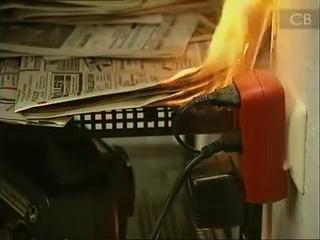Fire: (130, 1, 262, 119)
